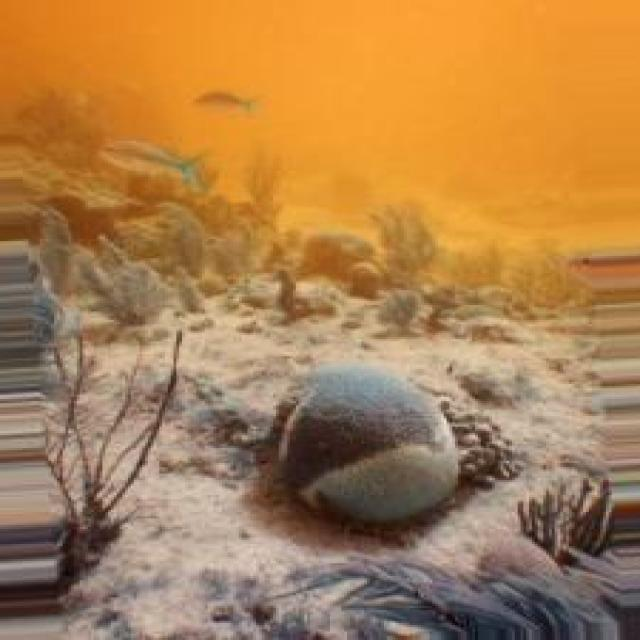Healthy: (271, 364, 462, 543)
